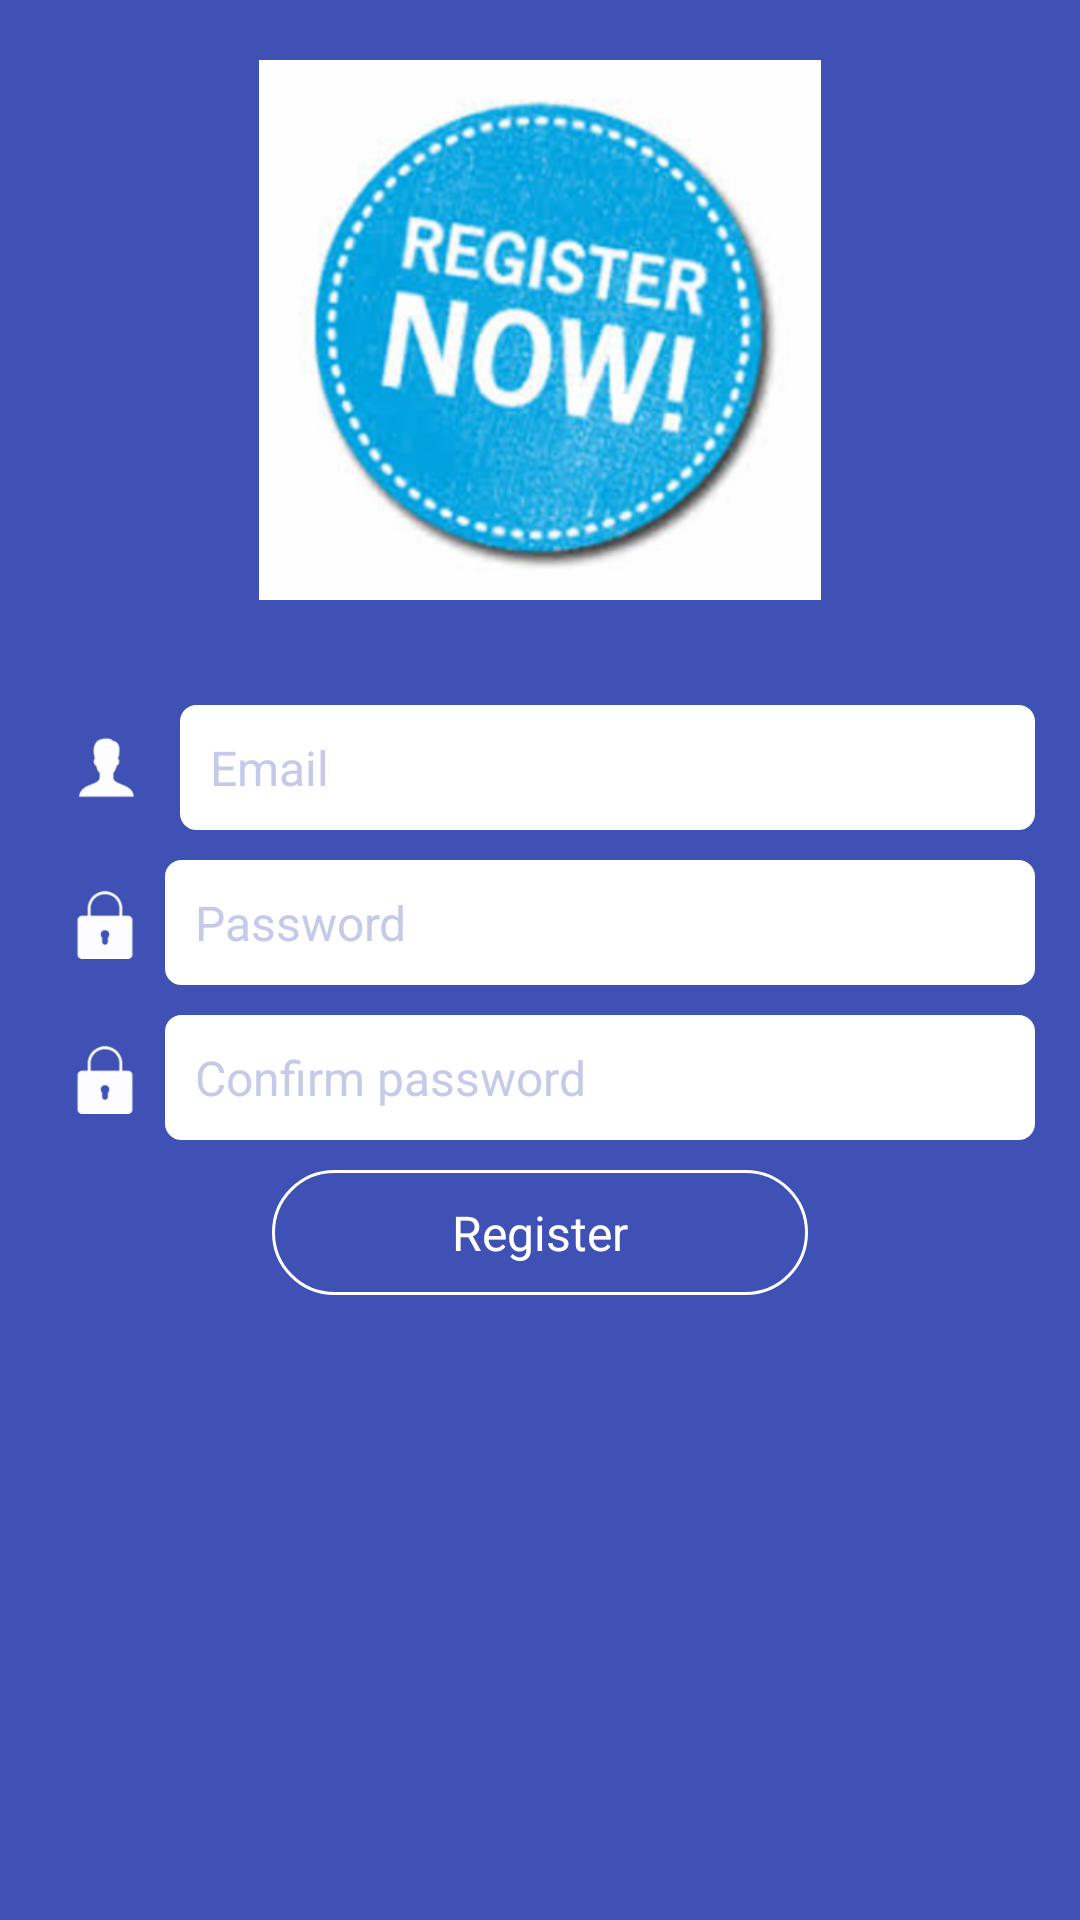

Screen size 1080x1920. Icon name, then its center in pixels as point (x, y):
username: point (106, 767)
